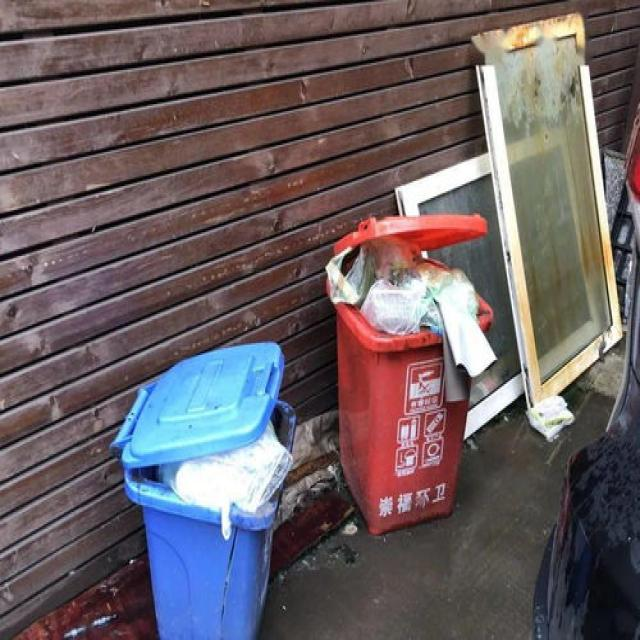overflow: (107, 340, 296, 638), (325, 212, 493, 530)
